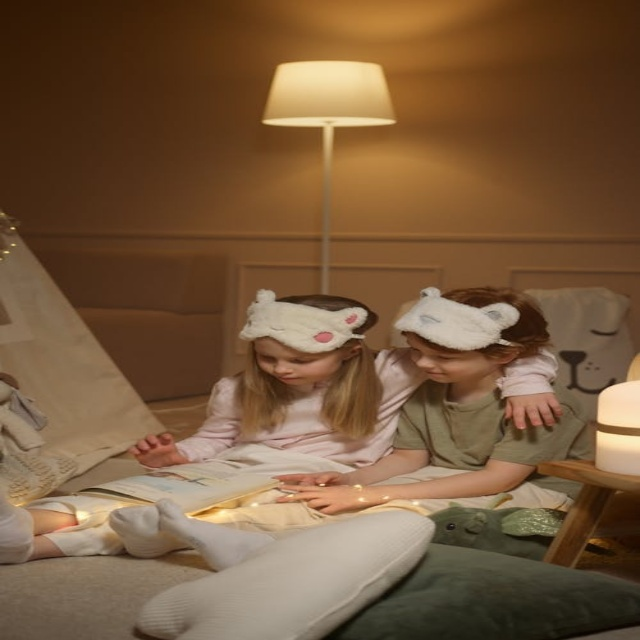Sin_gafas: (404, 338, 480, 362), (252, 346, 326, 366)
Sin_guantes: (270, 481, 395, 515), (122, 426, 197, 468), (500, 389, 571, 430), (270, 463, 362, 486)
Sin_mascara: (416, 366, 468, 382), (265, 371, 311, 385)
